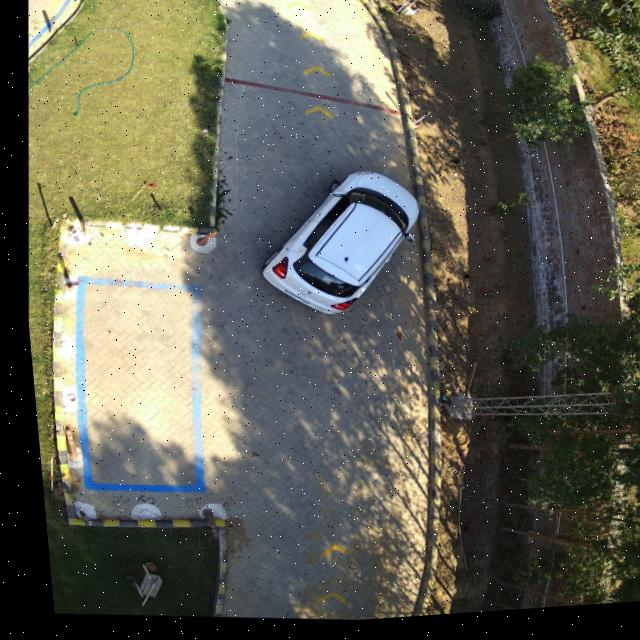car: (256, 175, 412, 318)
